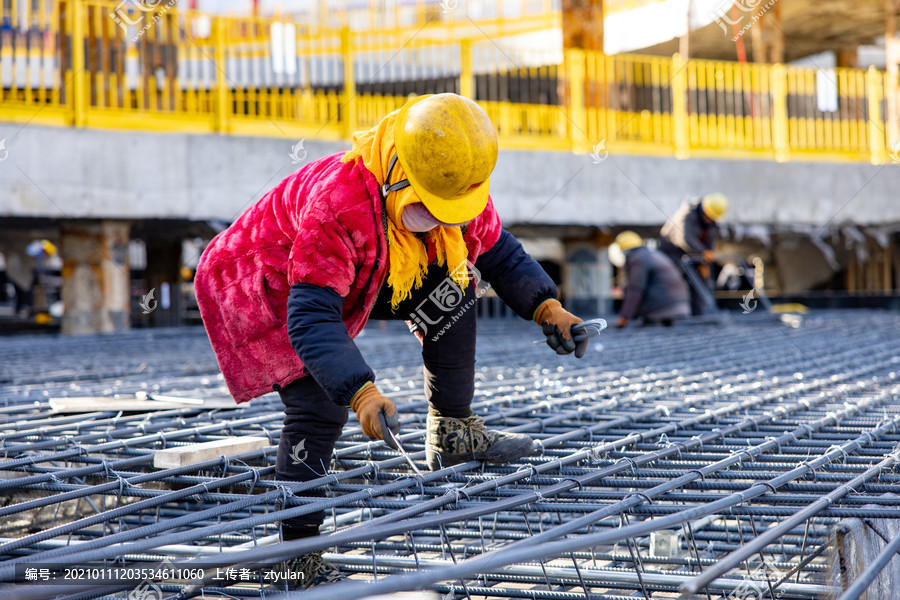safetyhat: (186, 72, 572, 501)
